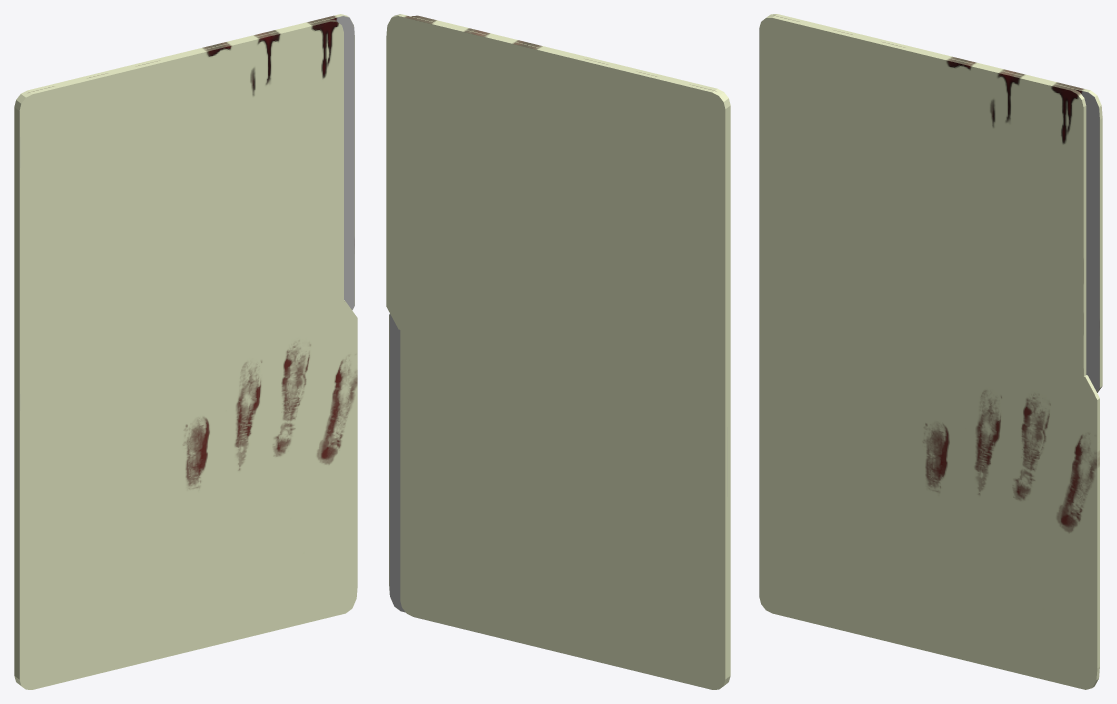
The model's file is FileFolderBloody.fbx.
3 renders of one model, left to right at view 1: azimuth 30°, elevation 25°; view 2: azimuth 150°, elevation 25°; view 3: azimuth 330°, elevation 25°, orthographic.
Parts seen in each view (by area): view 1: File Folder w/ Blood; view 2: File Folder w/ Blood; view 3: File Folder w/ Blood.
Part boxes in pixels (<box>): File Folder w/ Blood: <box>14,14,357,689</box>; File Folder w/ Blood: <box>386,14,730,689</box>; File Folder w/ Blood: <box>759,14,1102,689</box>.
Size of the model in its own units: 10.07 by 16.95 by 0.2709.
Materials: 1 (1 with a texture image).
